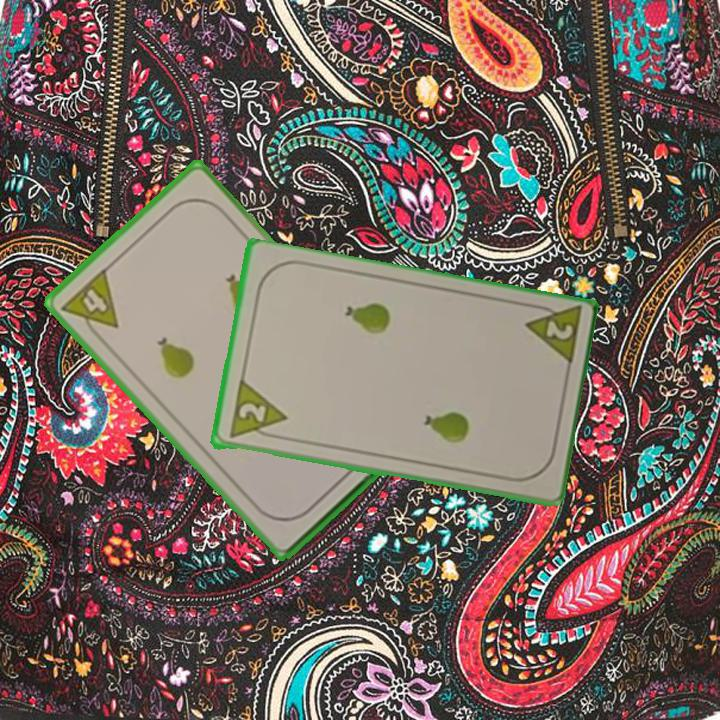2p: (520, 300, 584, 371), (234, 399, 269, 427)
4p: (57, 264, 122, 345)
